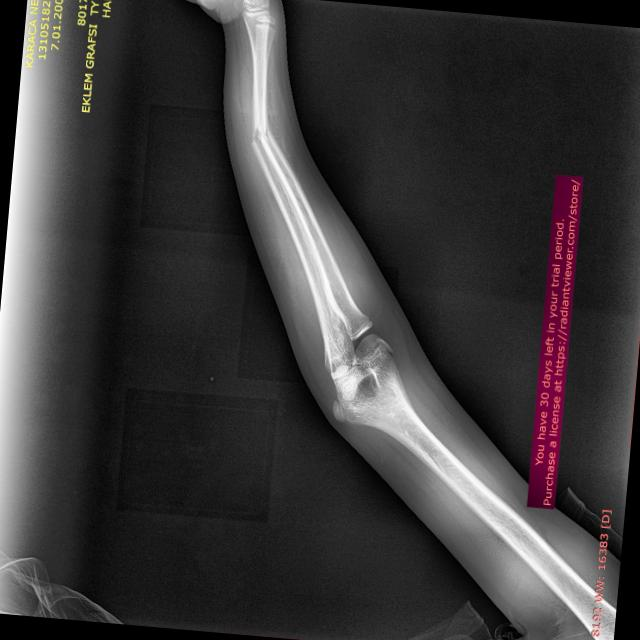Fracture: (248, 122, 274, 146)
